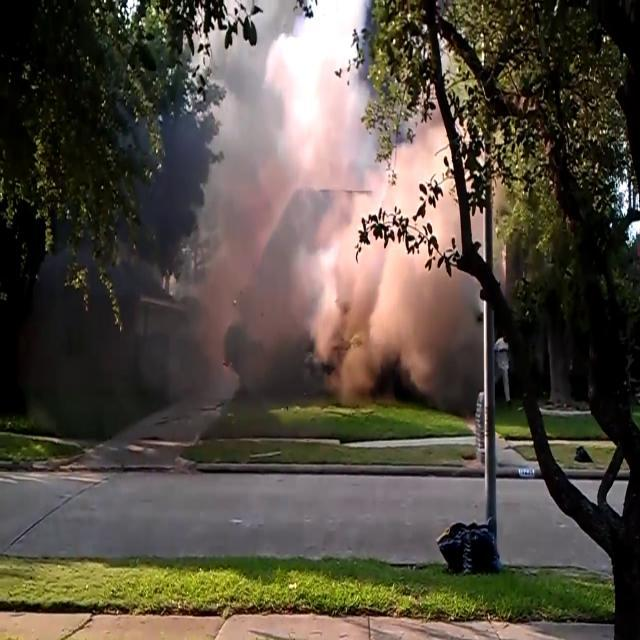Smoke: (147, 9, 480, 430)
